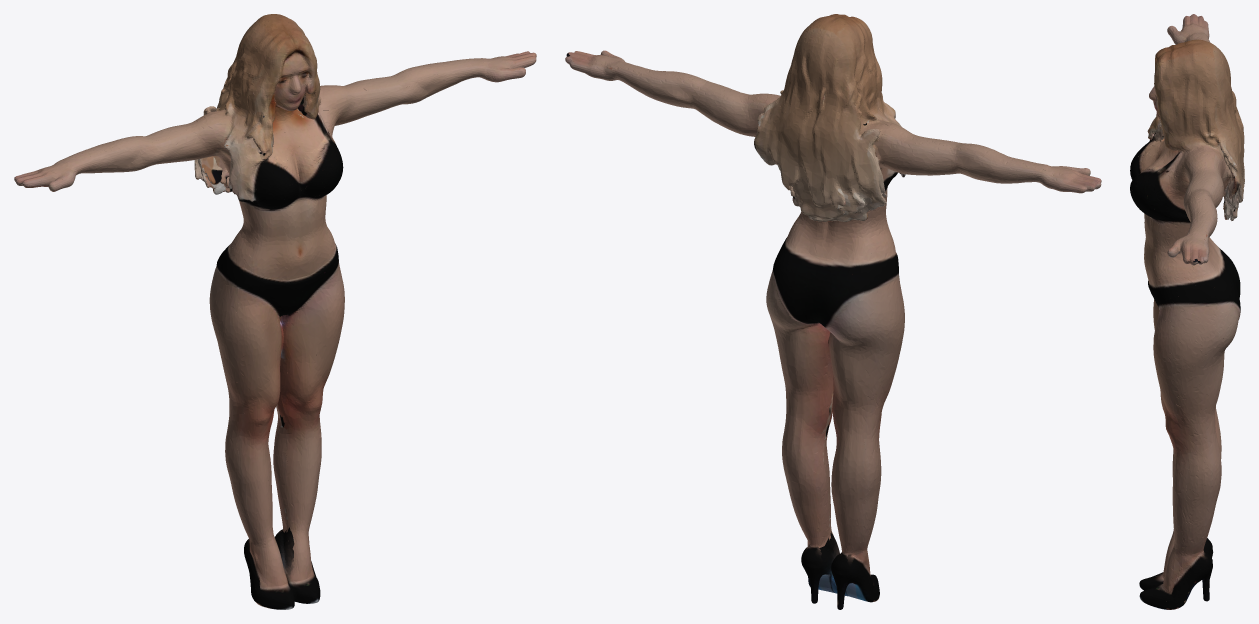
File: 797822bd-ebe2-4d68-ab0f-40f55cbaac57.glb
3 renders of one model, left to right at view 1: azimuth 30°, elevation 25°; view 2: azimuth 150°, elevation 25°; view 3: azimuth 270°, elevation 25°, orthographic. The views are drawn at different scales.
Parts seen in each view (by area): view 1: world; view 2: world; view 3: world.
Boxes of the visible parts, x1,y1,x2,y2 form: world: (14, 14, 536, 609); world: (565, 14, 1101, 609); world: (1130, 14, 1244, 609).
Bounding box in the file's own units: 1.9 × 1.99 × 0.3746.
Materials: 1 (1 with a texture image).
